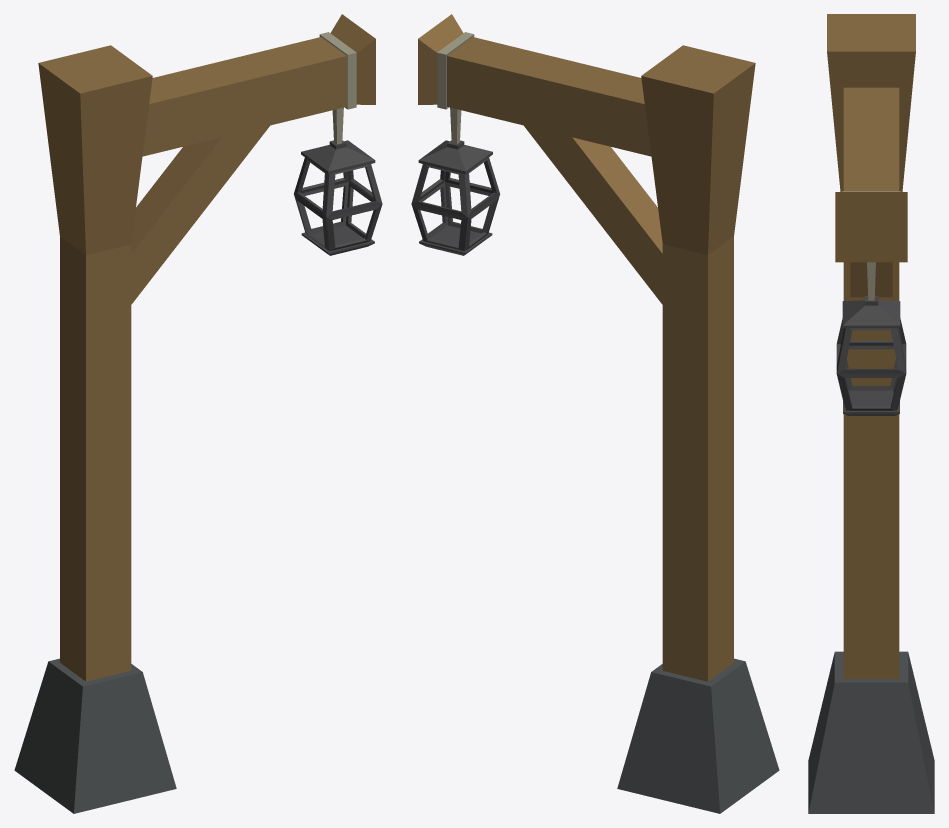
The model's file is Lamp3_General.fbx.
3 views of the same model, side by side, from view 1: azimuth 30°, elevation 25°; view 2: azimuth 150°, elevation 25°; view 3: azimuth 270°, elevation 25° (orthographic). The views are drawn at different scales.
Visible parts, largest first — view 1: Cube; view 2: Cube; view 3: Cube.
Boxes of the visible parts, left/top/right/bottom form: Cube: left=14, top=14, right=382, bottom=813; Cube: left=411, top=14, right=779, bottom=813; Cube: left=808, top=14, right=934, bottom=813.
Bounding box in the file's own units: 125 × 262 × 39.78.
